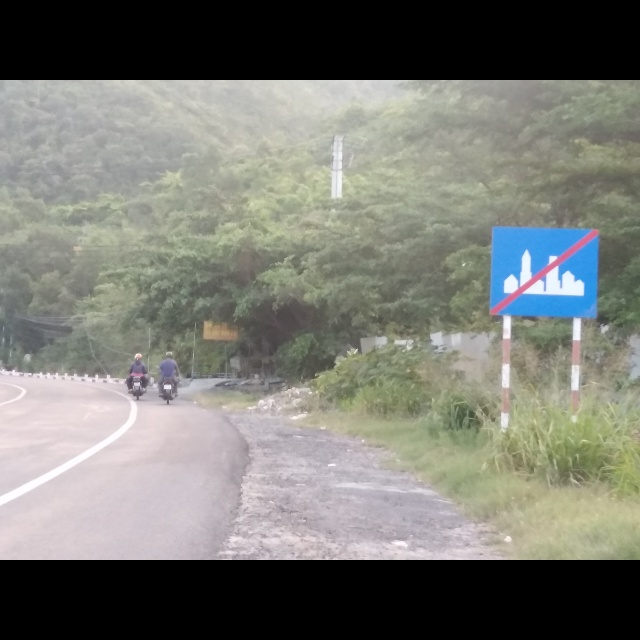Hết khu đông dân cư: (490, 224, 600, 319)
